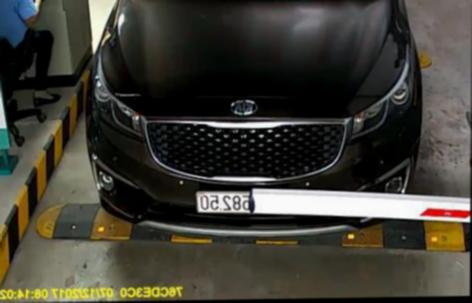License_Plate: (192, 185, 287, 217)
